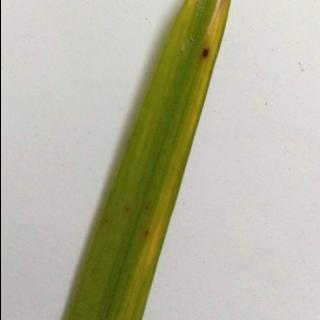bercak-Cokelat: (198, 42, 215, 68)
